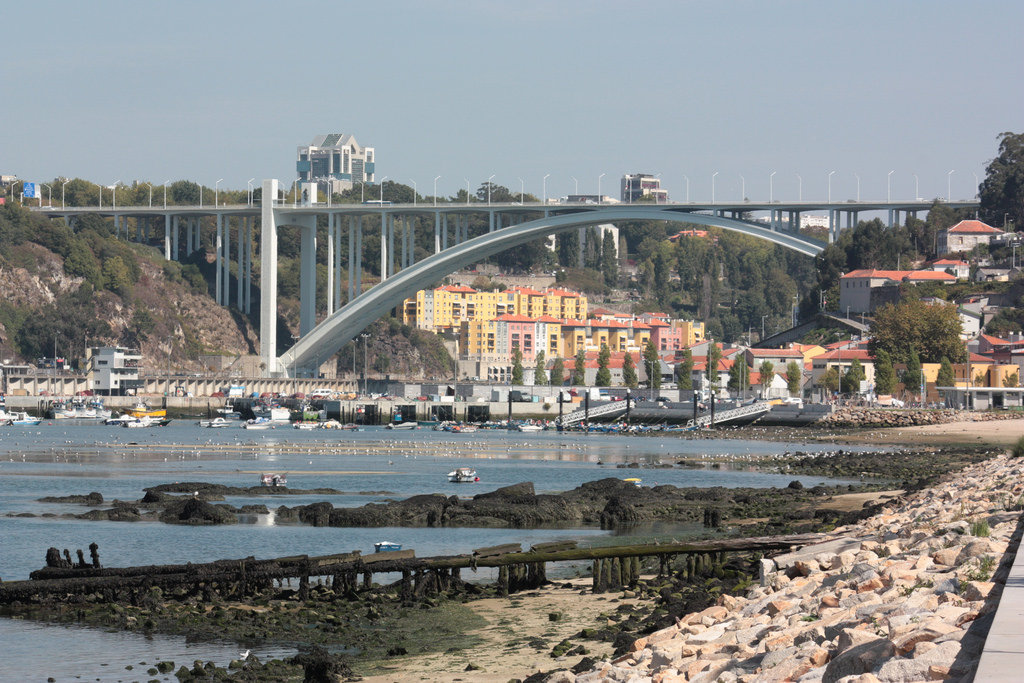arrabida: (29, 179, 987, 380)
